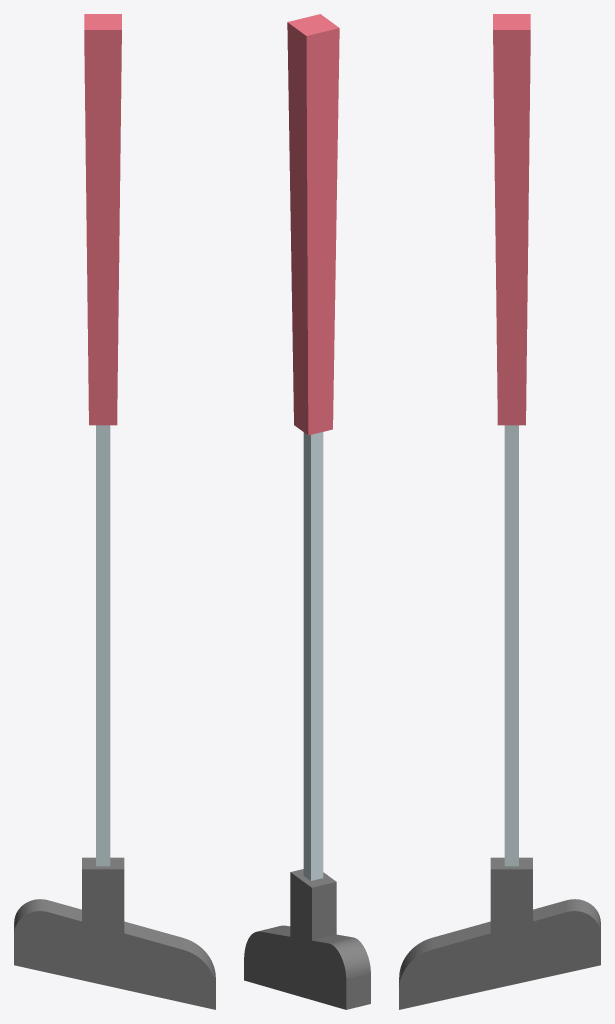
The model's file is club_red.glb.
The picture shows the model from 3 angles, left to right: view 1: azimuth 90°, elevation 25°; view 2: azimuth 210°, elevation 25°; view 3: azimuth 270°, elevation 25°; orthographic projection.
Visible parts, largest first — view 1: club_red; view 2: club_red; view 3: club_red.
Boxes of the visible parts, <box> form: club_red: <box>14,14,215,1009</box>; club_red: <box>244,14,370,1009</box>; club_red: <box>399,14,600,1009</box>.
Bounding box in the file's own units: 0.0346 × 0.9899 × 0.1844.
